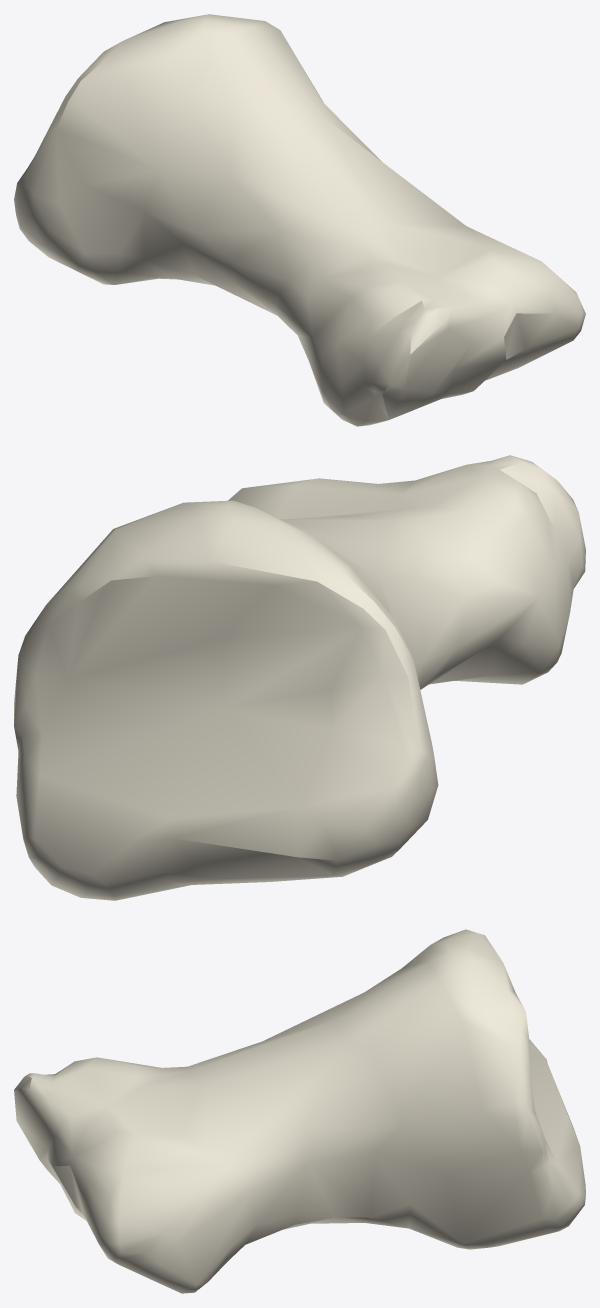
File: fma32643.glb
3 views of the same model, one above another, from view 1: azimuth 30°, elevation 25°; view 2: azimuth 150°, elevation 25°; view 3: azimuth 270°, elevation 25° (orthographic). The views are drawn at different scales.
Parts seen in each view (by area): view 1: FMA32643; view 2: FMA32643; view 3: FMA32643.
Part boxes in pixels (x1=…): FMA32643: x1=14, y1=14, x2=585, y2=426; FMA32643: x1=14, y1=455, x2=585, y2=900; FMA32643: x1=14, y1=929, x2=585, y2=1293.
Size of the model in its own units: 0.0119 by 0.00888 by 0.017.
